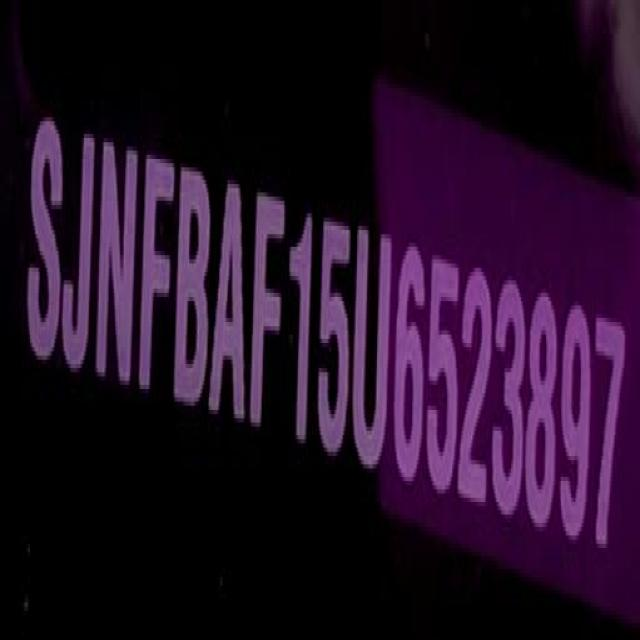1: (289, 195, 316, 457)
2: (456, 261, 490, 517)
3: (492, 274, 526, 522)
5: (316, 207, 351, 465), (426, 250, 459, 507)
6: (392, 239, 428, 490)
7: (594, 312, 629, 564)
8: (525, 287, 559, 531)
9: (559, 302, 592, 548)
A: (209, 176, 248, 431)
B: (178, 161, 213, 416)
F: (138, 146, 177, 406), (251, 181, 287, 440)
J: (62, 116, 98, 374)
M: (94, 130, 139, 394)
S: (25, 98, 60, 356)
U: (351, 229, 394, 471)
